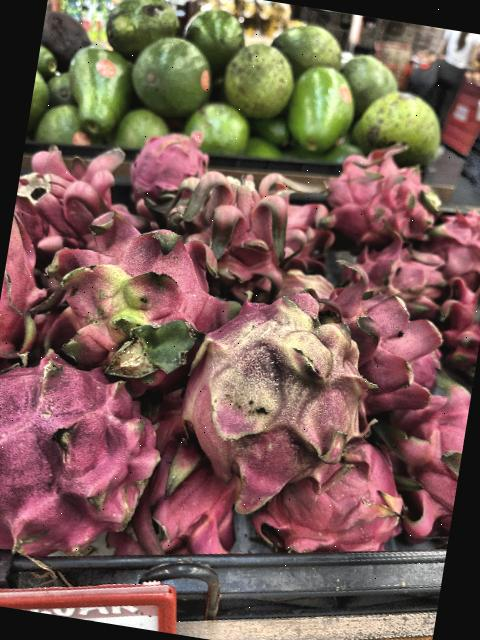buah-naga-belum-matang: (175, 276, 389, 520), (45, 204, 238, 400)
buah-naga-matang: (0, 345, 178, 581), (150, 156, 319, 308), (309, 261, 464, 424), (266, 422, 411, 560), (123, 421, 248, 576), (310, 131, 453, 256), (369, 378, 472, 540), (11, 144, 132, 254), (350, 222, 456, 316), (123, 116, 214, 210), (0, 203, 54, 360), (424, 270, 480, 373), (424, 193, 480, 281)
